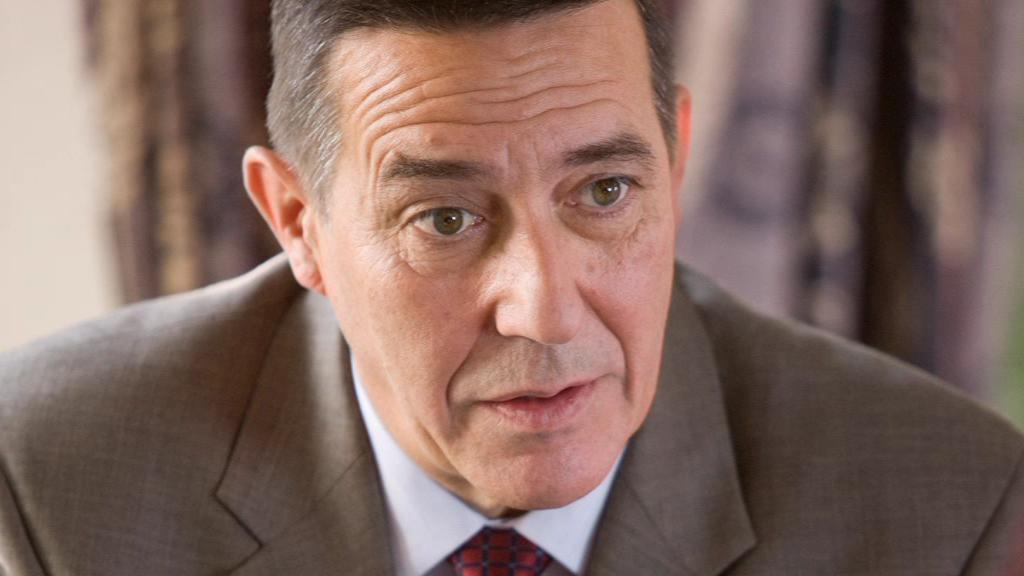face: (328, 28, 674, 510)
